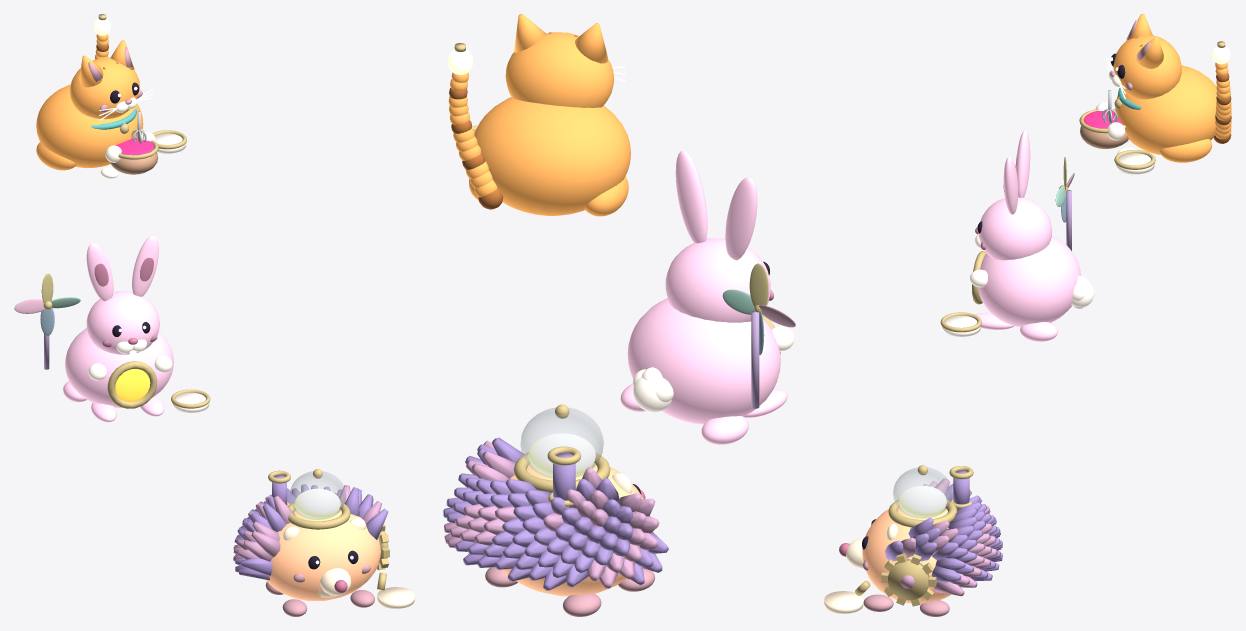
The model's file is may-che-tao.glb.
The picture shows the model from 3 angles, left to right: view 1: azimuth 30°, elevation 25°; view 2: azimuth 150°, elevation 25°; view 3: azimuth 270°, elevation 25°; orthographic projection. The views are drawn at different scales.
Visible parts, largest first — view 1: Nhim_Than, Meo_Than, Tho_Than, Nhim_BonKinh, Tho_ChongChong, Tho_TaiPhai, Tho_TaiTrai, Nhim_NuocEp, Tho_Chan, Tho_CuaLo, Nhim_Chan, Tho_Khay (+4 smaller); view 2: Nhim_Than, Meo_Than, Tho_Than, Nhim_BonKinh, Meo_Duoi, Tho_TaiPhai, Tho_Chan, Tho_TaiTrai, Tho_ChongChong, Nhim_NuocEp, Nhim_Chan, Tho_Duoi (+5 smaller); view 3: Tho_Than, Meo_Than, Nhim_Than, Nhim_BonKinh, Nhim_BanhRang, Meo_Duoi, Nhim_NuocEp, Tho_Chan, Meo_Chan, Tho_Khay, Meo_Khay, Nhim_Chan (+6 smaller).
Boxes of the visible parts, left/top/right/bottom form: Nhim_Than: left=233, top=484, right=388, bottom=600; Meo_Than: left=36, top=57, right=158, bottom=174; Tho_Than: left=44, top=291, right=173, bottom=408; Nhim_BonKinh: left=288, top=469, right=350, bottom=529; Tho_ChongChong: left=14, top=273, right=80, bottom=335; Tho_TaiPhai: left=132, top=236, right=158, bottom=296; Tho_TaiTrai: left=86, top=243, right=113, bottom=301; Nhim_NuocEp: left=295, top=488, right=340, bottom=518; Tho_Chan: left=63, top=381, right=164, bottom=422; Tho_CuaLo: left=115, top=369, right=150, bottom=401; Nhim_Chan: left=265, top=582, right=374, bottom=616; Tho_Khay: left=171, top=389, right=210, bottom=412; Nhim_Than: left=443, top=437, right=668, bottom=596; Meo_Than: left=474, top=32, right=630, bottom=215; Tho_Than: left=627, top=238, right=794, bottom=424; Nhim_BonKinh: left=514, top=404, right=610, bottom=492; Meo_Duoi: left=448, top=72, right=503, bottom=209; Tho_TaiPhai: left=675, top=151, right=707, bottom=243; Tho_Chan: left=620, top=383, right=787, bottom=444; Tho_TaiTrai: left=725, top=177, right=757, bottom=260; Tho_ChongChong: left=722, top=263, right=795, bottom=355; Nhim_NuocEp: left=528, top=433, right=595, bottom=476; Nhim_Chan: left=485, top=567, right=655, bottom=616; Tho_Duoi: left=633, top=367, right=673, bottom=412; Tho_Than: left=970, top=190, right=1080, bottom=327; Meo_Than: left=1079, top=35, right=1216, bottom=154; Nhim_Than: left=839, top=478, right=1002, bottom=603; Nhim_BonKinh: left=888, top=465, right=957, bottom=527; Nhim_BanhRang: left=881, top=553, right=936, bottom=606; Meo_Duoi: left=1213, top=62, right=1231, bottom=143; Nhim_NuocEp: left=898, top=486, right=946, bottom=516; Tho_Chan: left=974, top=312, right=1057, bottom=341; Meo_Chan: left=1117, top=139, right=1212, bottom=162; Tho_Khay: left=940, top=312, right=981, bottom=336; Meo_Khay: left=1114, top=150, right=1155, bottom=174; Nhim_Chan: left=863, top=594, right=949, bottom=616.
Bounding box in the file's own units: 6.24 × 9.95 × 7.09.
